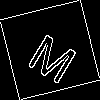M: (25, 25, 84, 85)
